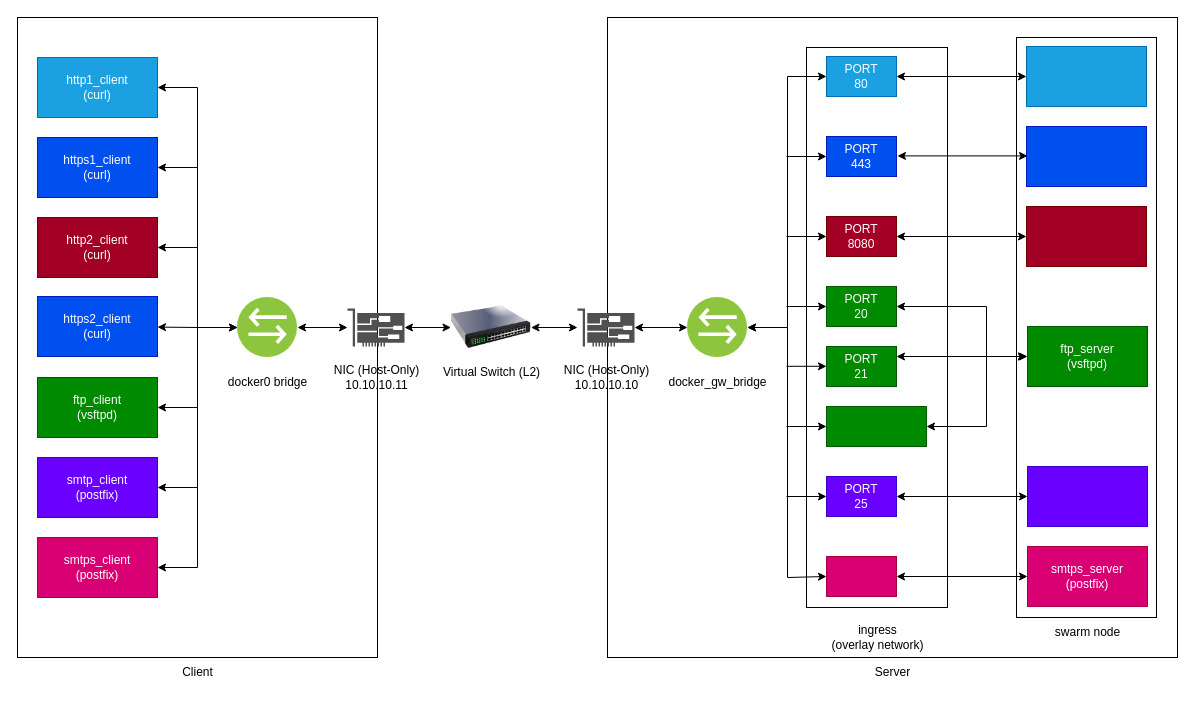
This 1195x705 diagram has some shape labels left out. Each missing label, with the box of its shape:
h2c_server (nghttpd): (1026, 206, 1146, 266)
http_server (golang based server): (1026, 46, 1146, 106)
https_server (golang based server): (1026, 126, 1146, 186)
PORT 30000 - 30010: (826, 406, 926, 446)
PORT 465: (826, 556, 896, 596)
smtp_server (postfix): (1026, 466, 1148, 526)
